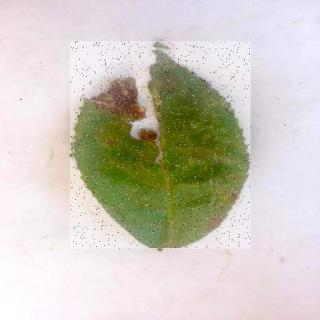Brown Blight: (71, 43, 252, 251)
